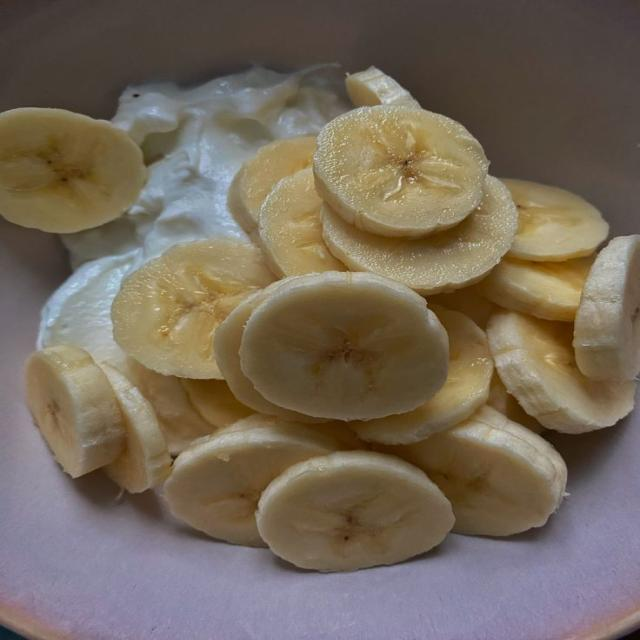banana slice: (39, 254, 213, 454), (240, 272, 448, 420), (257, 451, 453, 572), (321, 177, 517, 295), (314, 106, 488, 237), (112, 239, 273, 378), (394, 406, 566, 536), (165, 427, 338, 546), (350, 306, 493, 444), (0, 108, 146, 232), (487, 312, 635, 433), (214, 282, 326, 422), (26, 346, 125, 477), (259, 168, 346, 277), (574, 235, 639, 380), (101, 364, 171, 492), (123, 359, 214, 455), (504, 179, 608, 261), (228, 136, 316, 232), (475, 258, 593, 321), (225, 414, 368, 449), (181, 379, 254, 428), (487, 372, 544, 433), (346, 66, 419, 108), (427, 288, 497, 329)
